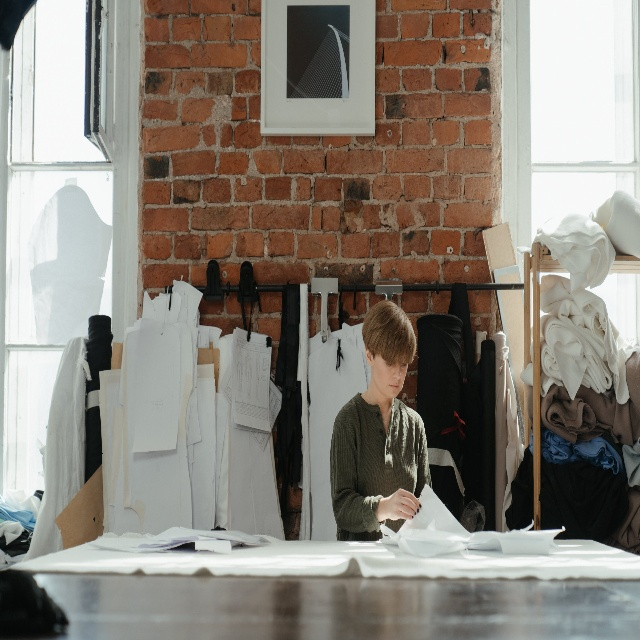Sin_guantes: (386, 487, 422, 521)
